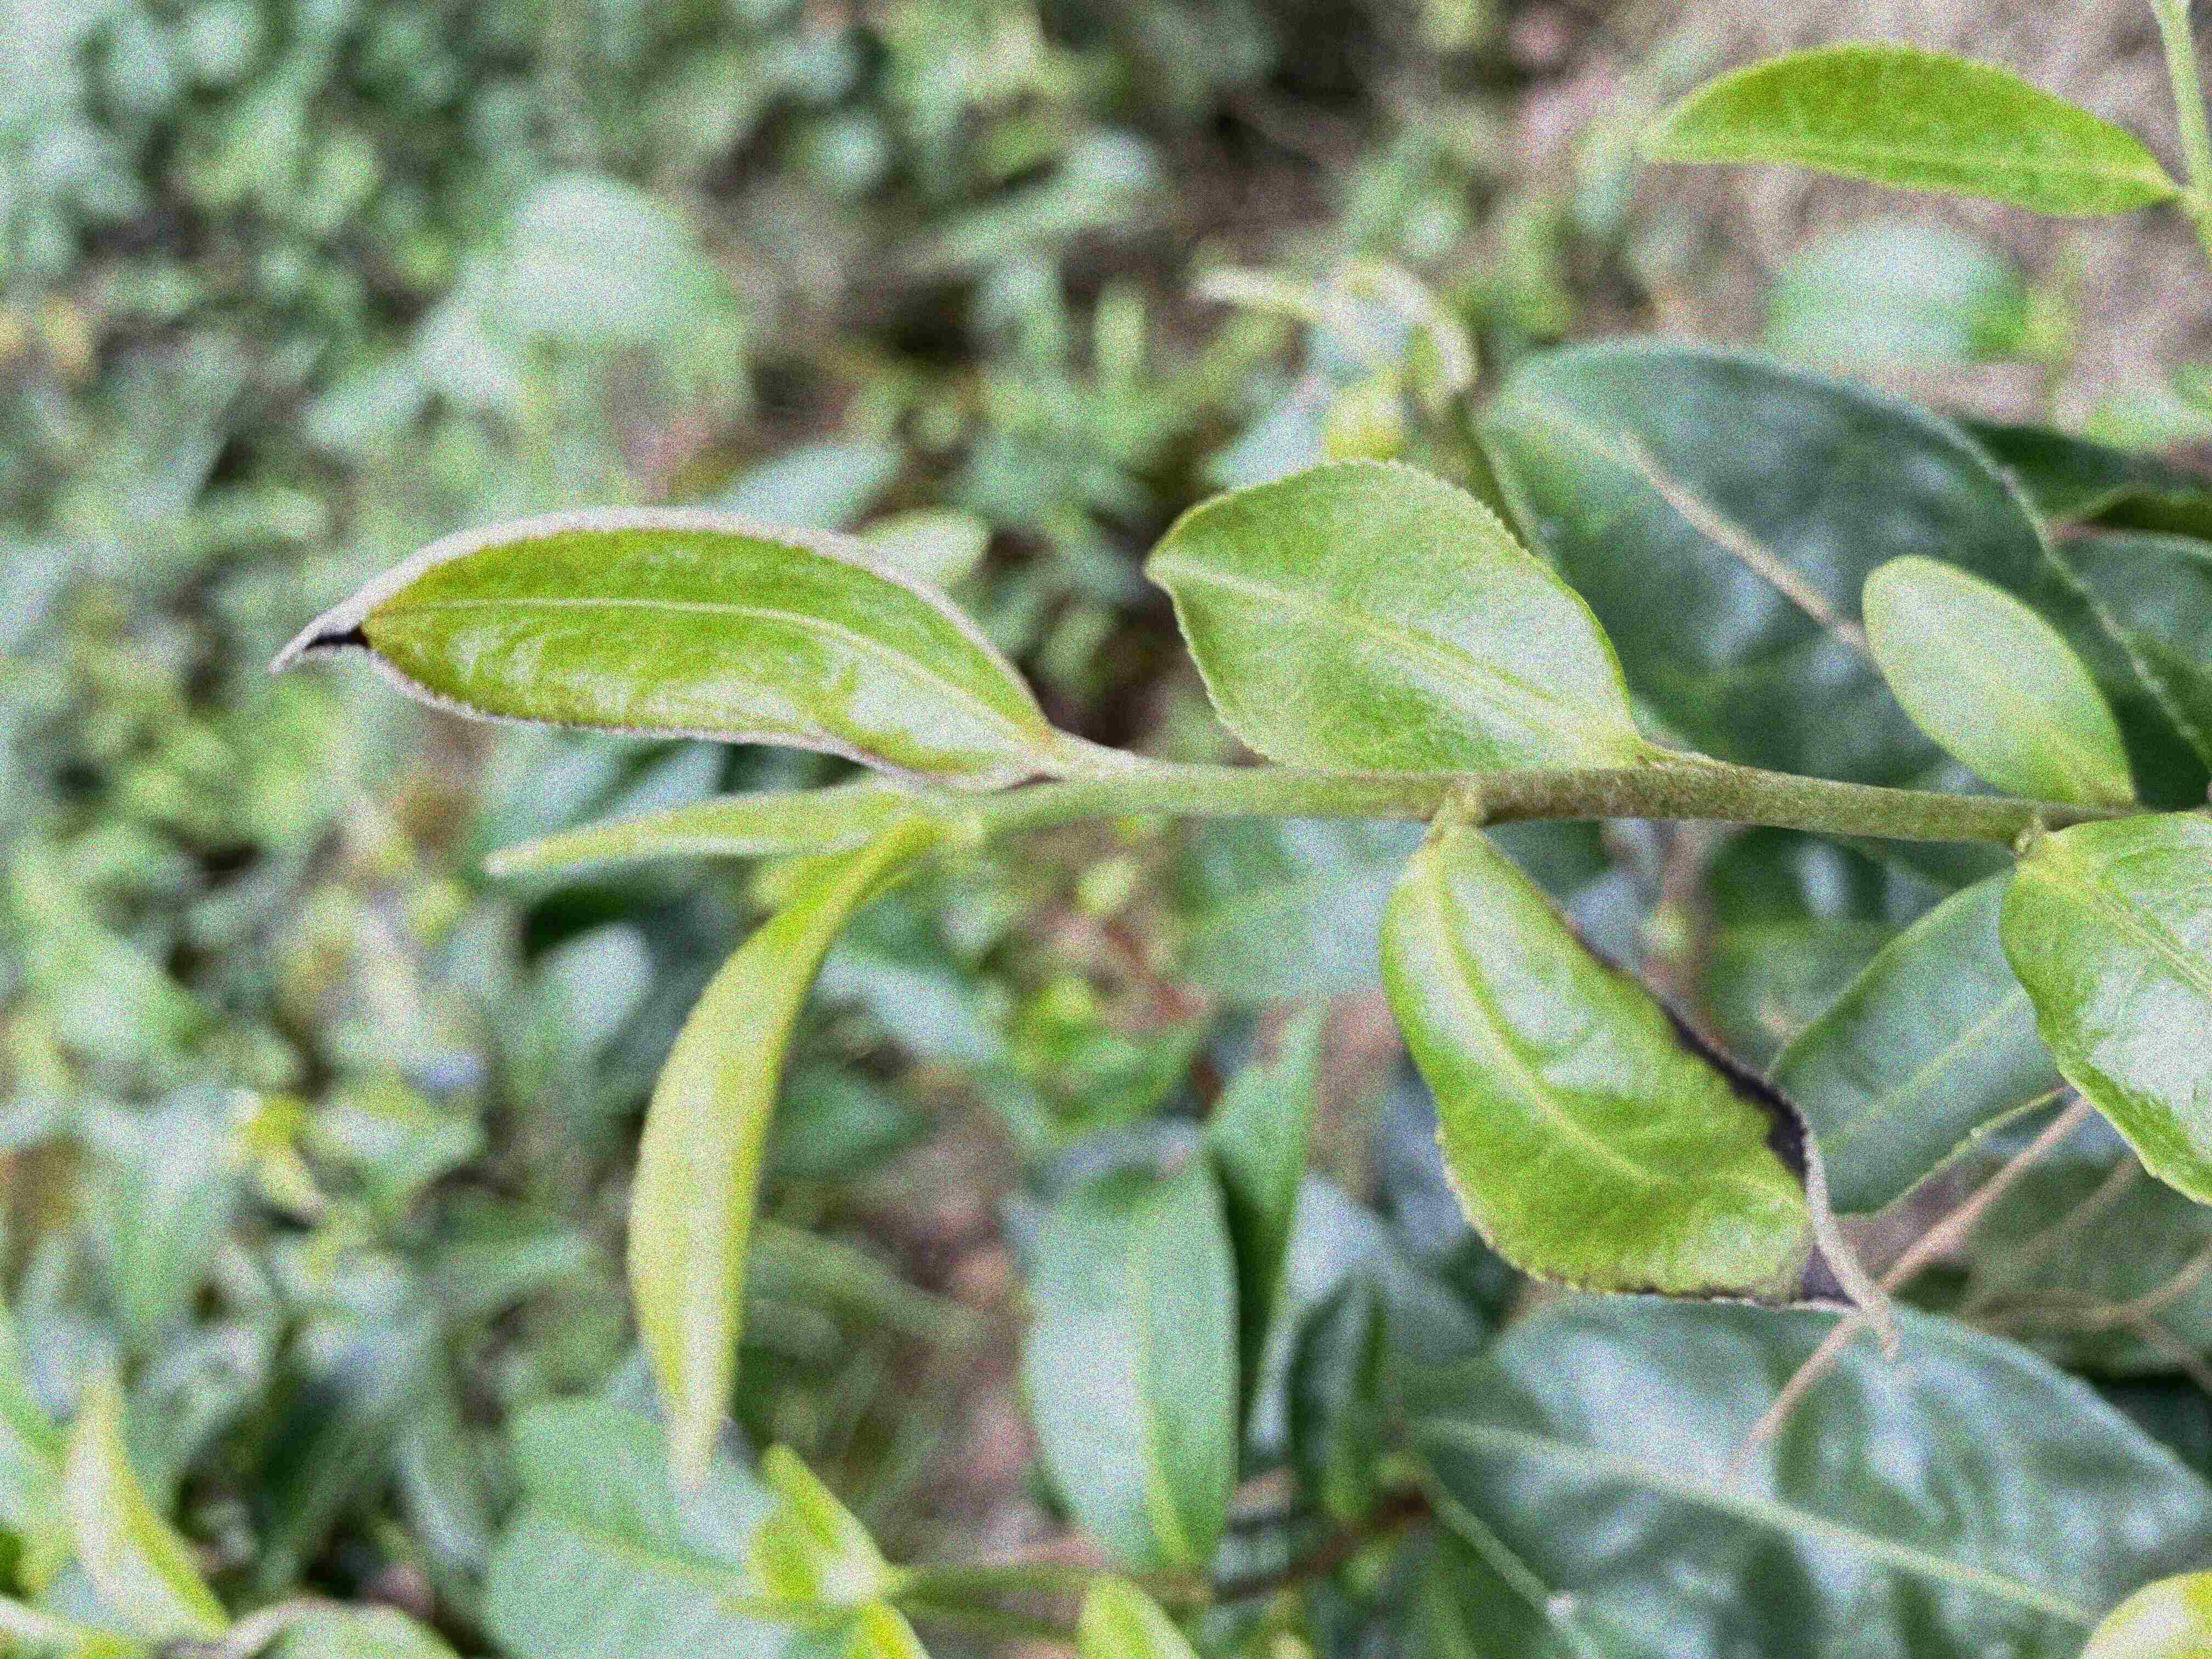healthy: (1139, 453, 1644, 781), (1998, 810, 2210, 1208), (1864, 551, 2137, 809)
tanju_low: (1376, 823, 1905, 1364), (261, 509, 1045, 795)
